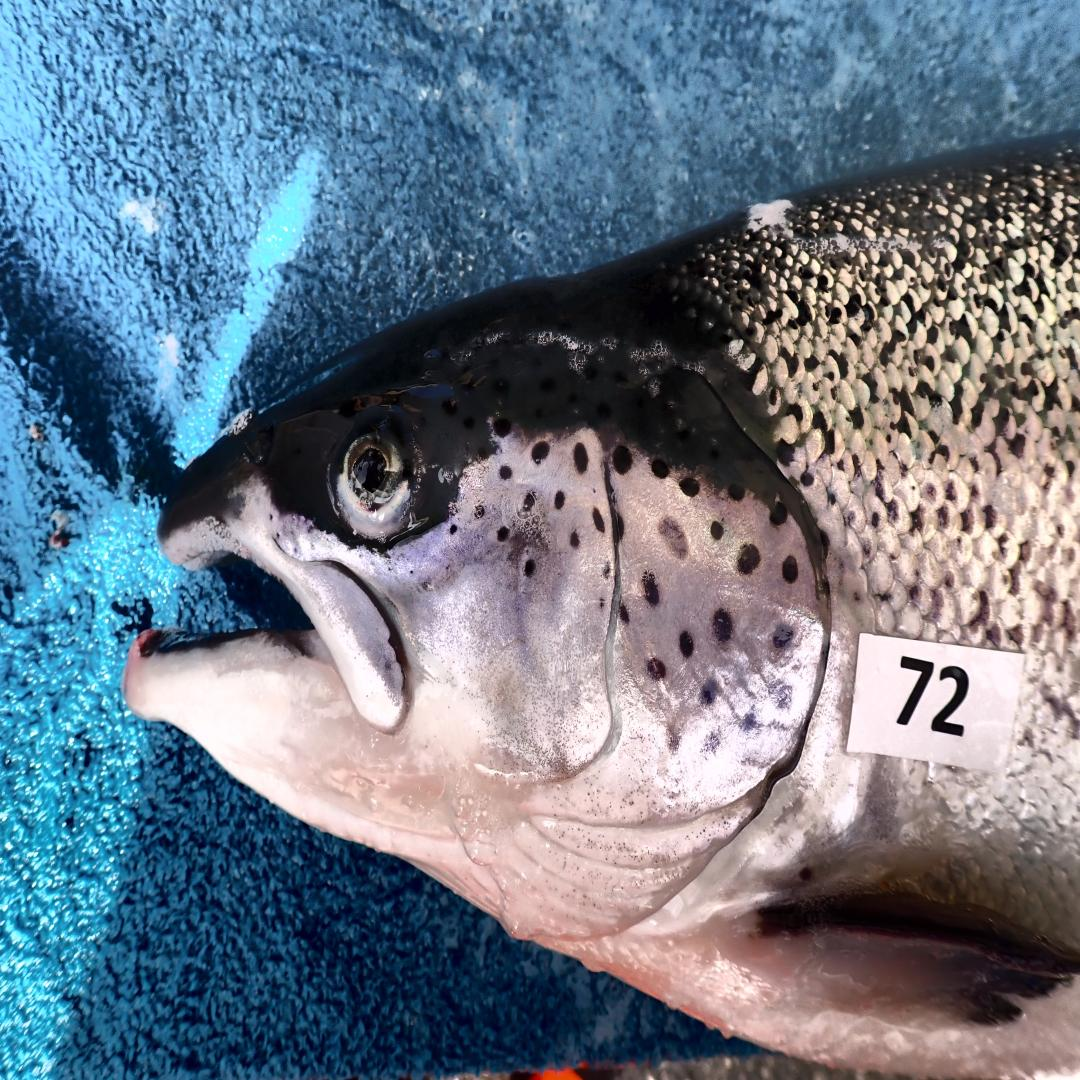spot: (658, 518, 688, 560), (736, 543, 761, 574), (641, 571, 660, 608), (712, 610, 732, 643), (612, 444, 633, 475), (772, 624, 793, 650), (700, 678, 718, 706), (679, 475, 700, 498), (574, 442, 589, 472), (531, 442, 551, 464), (648, 658, 667, 681), (770, 501, 787, 526), (679, 630, 694, 658), (778, 684, 793, 712), (782, 557, 797, 583), (492, 417, 511, 437), (704, 732, 721, 754), (652, 458, 669, 479), (592, 506, 605, 532), (728, 484, 745, 501), (711, 520, 724, 540), (523, 492, 536, 512), (618, 605, 631, 624), (668, 735, 681, 753), (616, 512, 624, 540), (524, 560, 536, 577), (743, 714, 755, 731), (500, 464, 513, 479), (554, 492, 565, 509), (497, 526, 508, 543), (474, 504, 485, 520), (570, 532, 580, 548), (602, 561, 609, 579), (448, 524, 457, 534), (599, 599, 605, 609)
